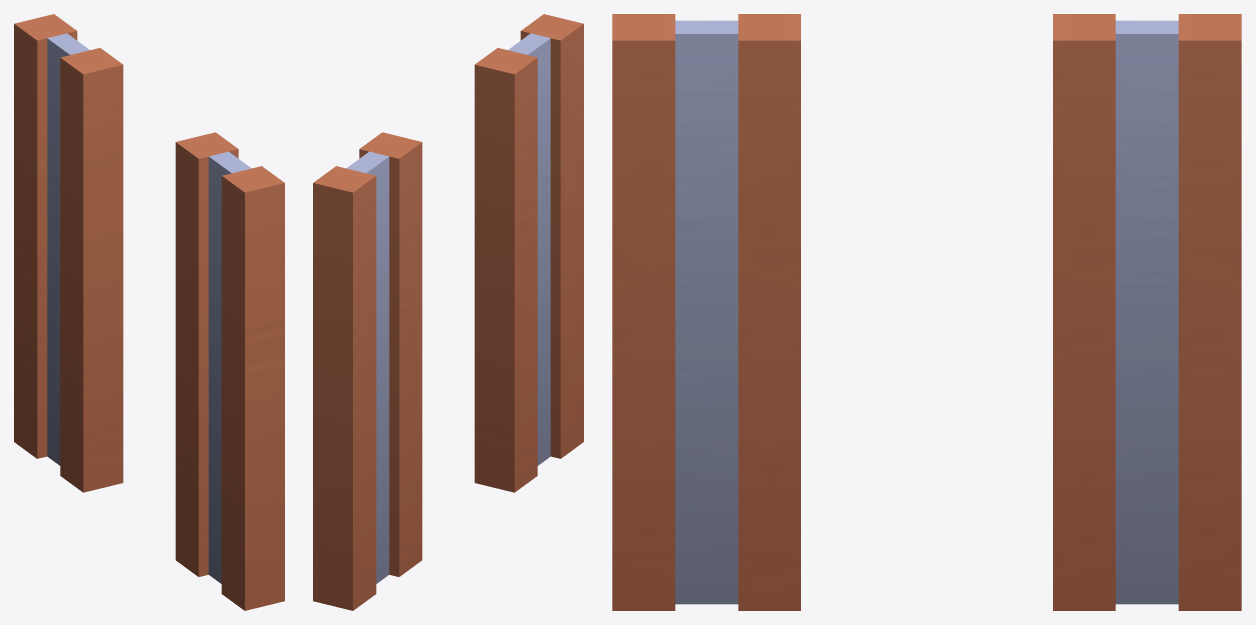
Rendered from wallDoorwayBase.fbx.
The picture shows the model from 3 angles, left to right: view 1: azimuth 30°, elevation 25°; view 2: azimuth 150°, elevation 25°; view 3: azimuth 270°, elevation 25°; orthographic projection. The views are drawn at different scales.
Visible parts, largest first — view 1: wallDoorwayBase; view 2: wallDoorwayBase; view 3: wallDoorwayBase.
Boxes of the visible parts, x1,y1,x2,y2 form: wallDoorwayBase: (14,14,284,610); wallDoorwayBase: (313,14,583,610); wallDoorwayBase: (612,14,1241,610).
Bounding box in the file's own units: 0.1 × 1 × 1.
